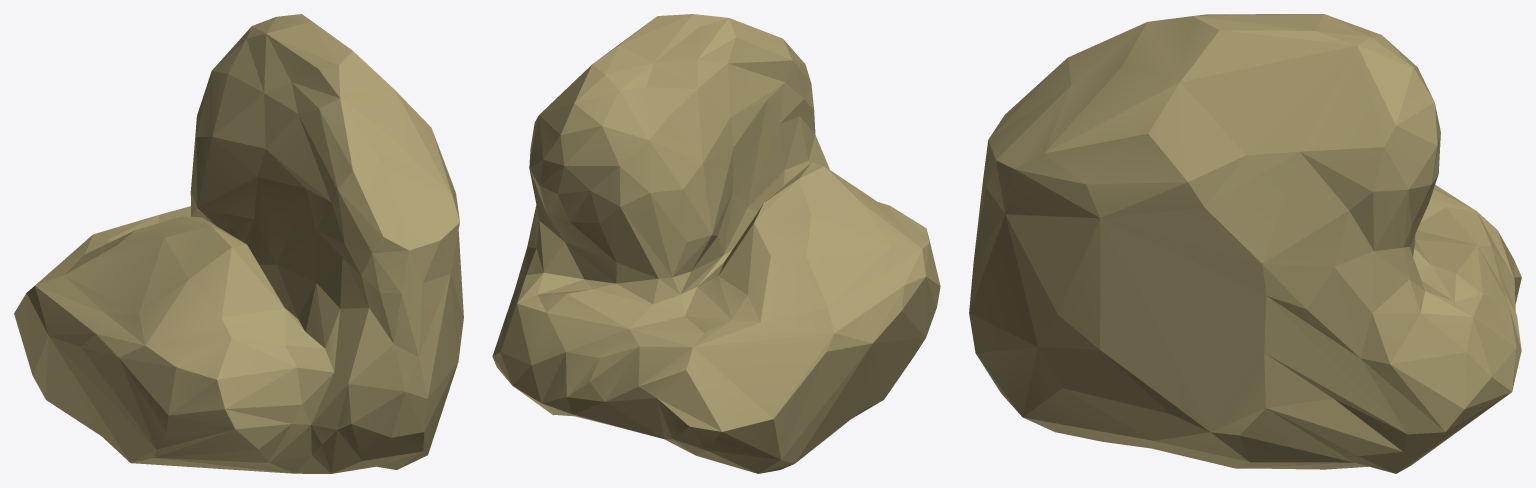
File: SM_rock_42.fbx
The picture shows the model from 3 angles, left to right: view 1: azimuth 30°, elevation 25°; view 2: azimuth 150°, elevation 25°; view 3: azimuth 270°, elevation 25°; orthographic projection. The views are drawn at different scales.
Visible parts, largest first — view 1: rock_42; view 2: rock_42; view 3: rock_42.
Boxes of the visible parts, x1,y1,x2,y2 form: rock_42: (14, 14, 463, 473); rock_42: (492, 14, 940, 473); rock_42: (969, 14, 1521, 473).
Size of the model in its own units: 145 by 149 by 172.
